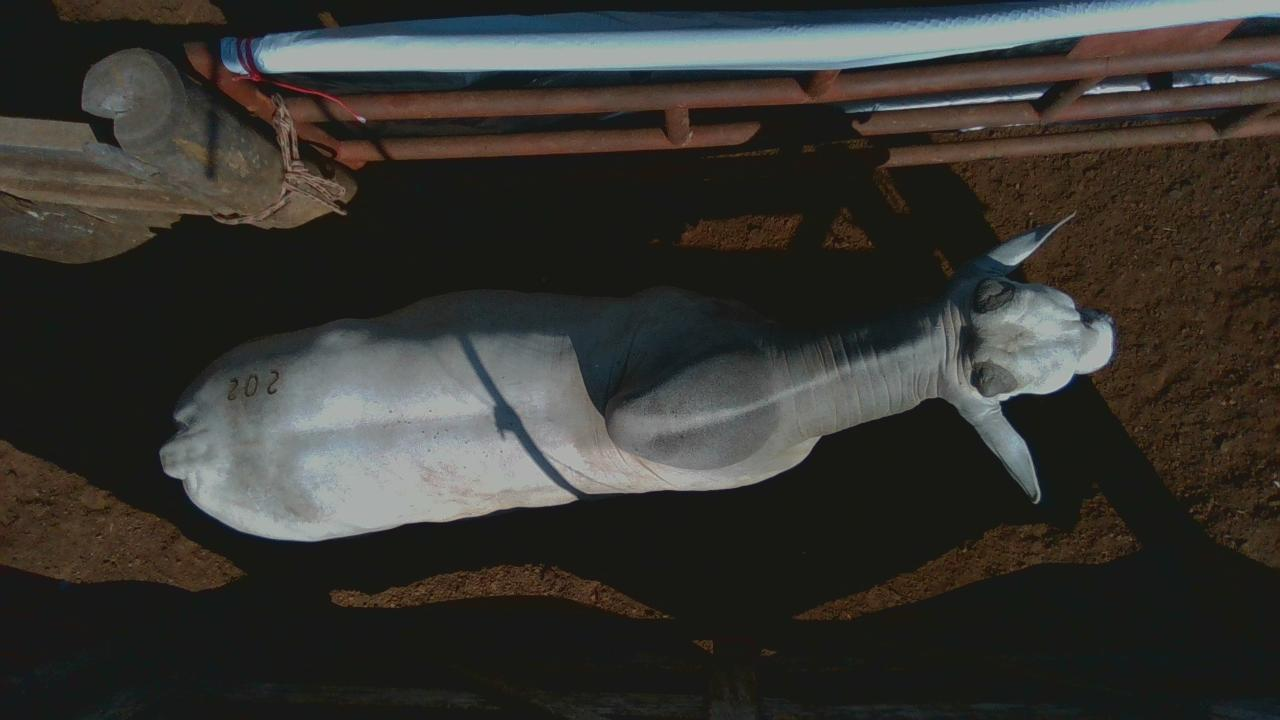cattle: (158, 208, 1118, 543)
